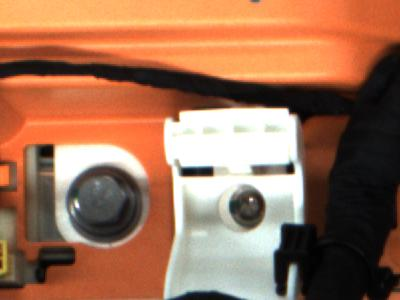nut_b: (66, 169, 151, 241)
